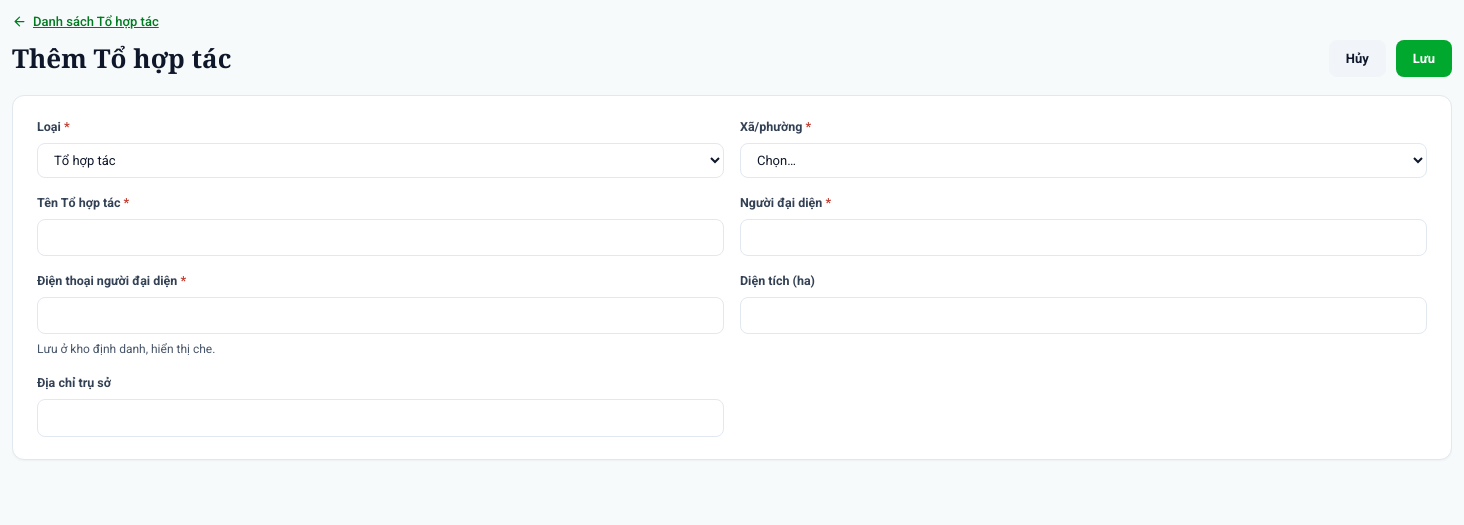
Test: TT-08: Thêm hồ sơ có ô Loại, bắt buộc theo loại › Loại Tổ hợp tác: thiếu Xã/phường, Tên, Người đại diện, Điện thoại → lỗi theo trường, không gọi API
Expected: the dropdown labelled "Loại *" shows "Tổ hợp tác", [37,143,724,178]
Expected: the field labelled "Tên Tổ hợp tác *" is shown, [37,218,724,256]
Click the button "Lưu" at (1424,58), box [1396,40,1452,77]
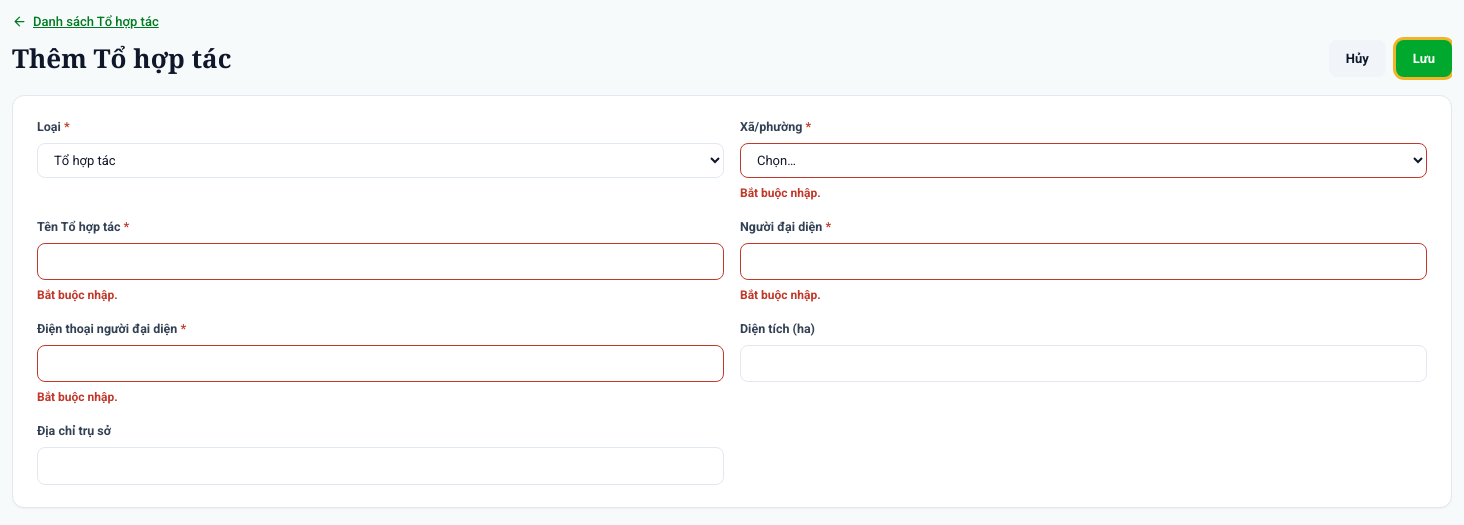
Type "THT Lúa" into the field labelled "Tên Tổ hợp tác *" at (380,261), box [37,242,724,280]
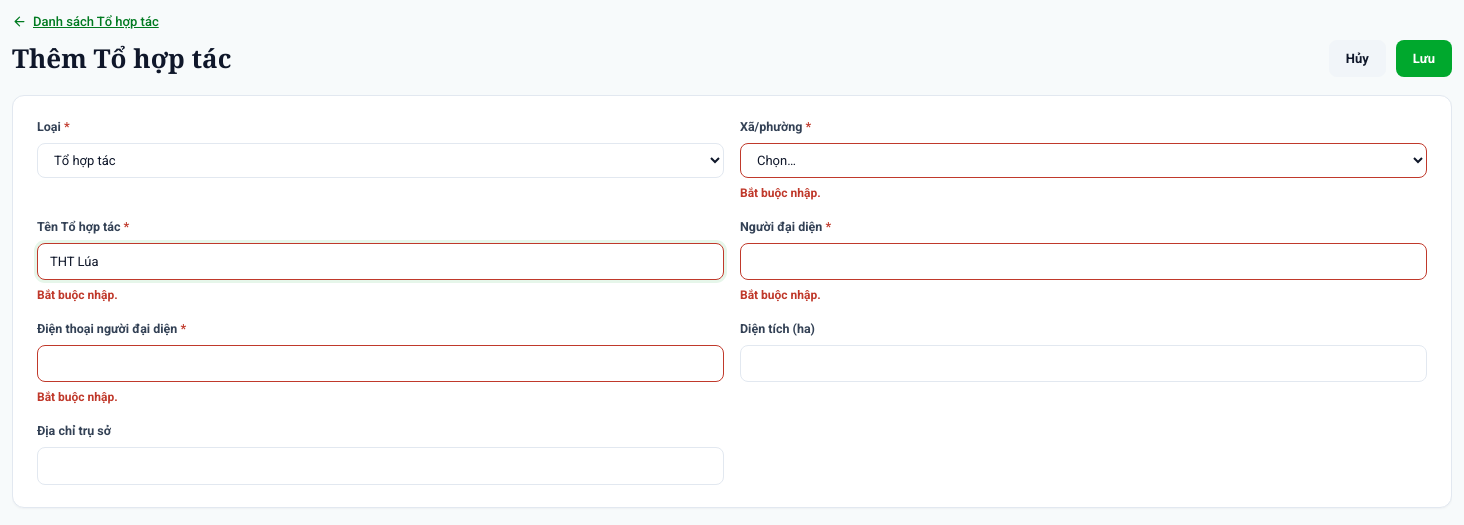
Select "Bình Đức" in the dropdown labelled "Xã/phường *" at (1084,160), box [740,143,1427,178]
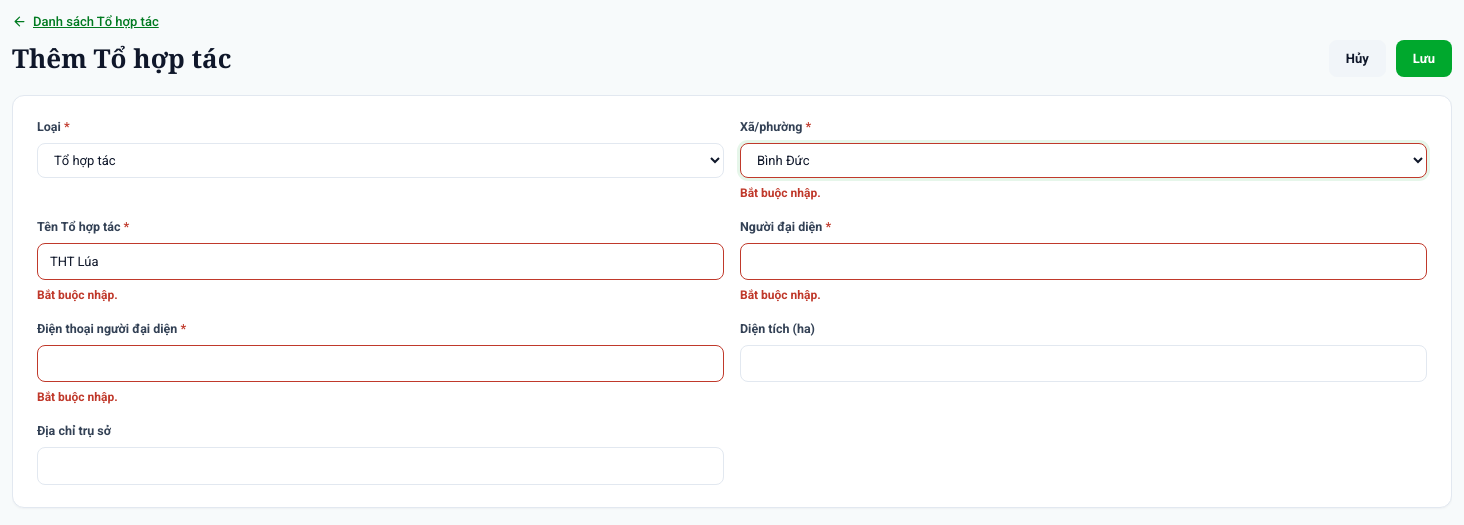
Type "Phạm Văn Dũng" into the field labelled "Người đại diện *" at (1084,261), box [740,242,1427,280]
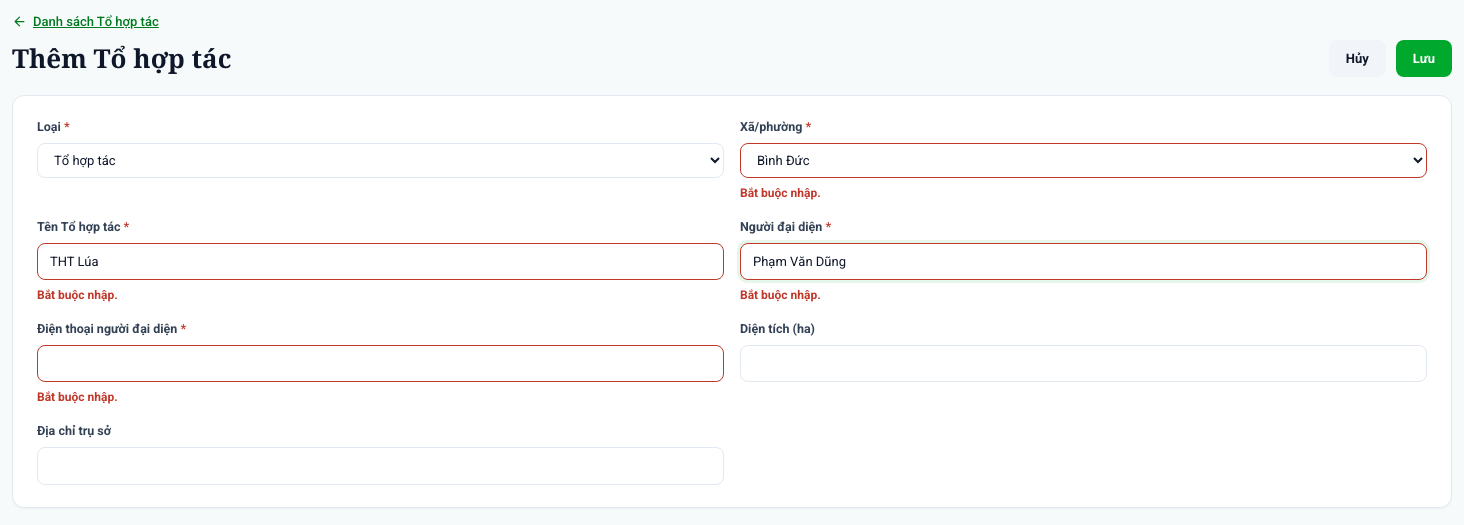
Type "12345" into the field labelled "Điện thoại người đại diện *" at (380,364), box [37,345,724,382]
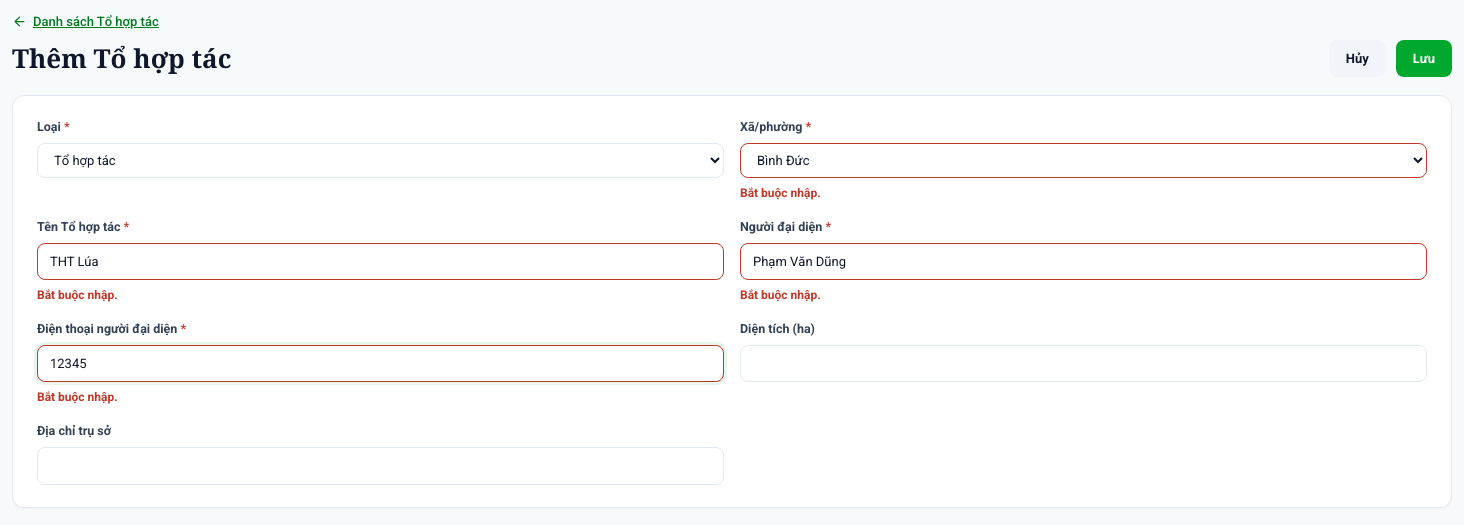
Click the button "Lưu" at (1424,58), box [1396,40,1452,77]
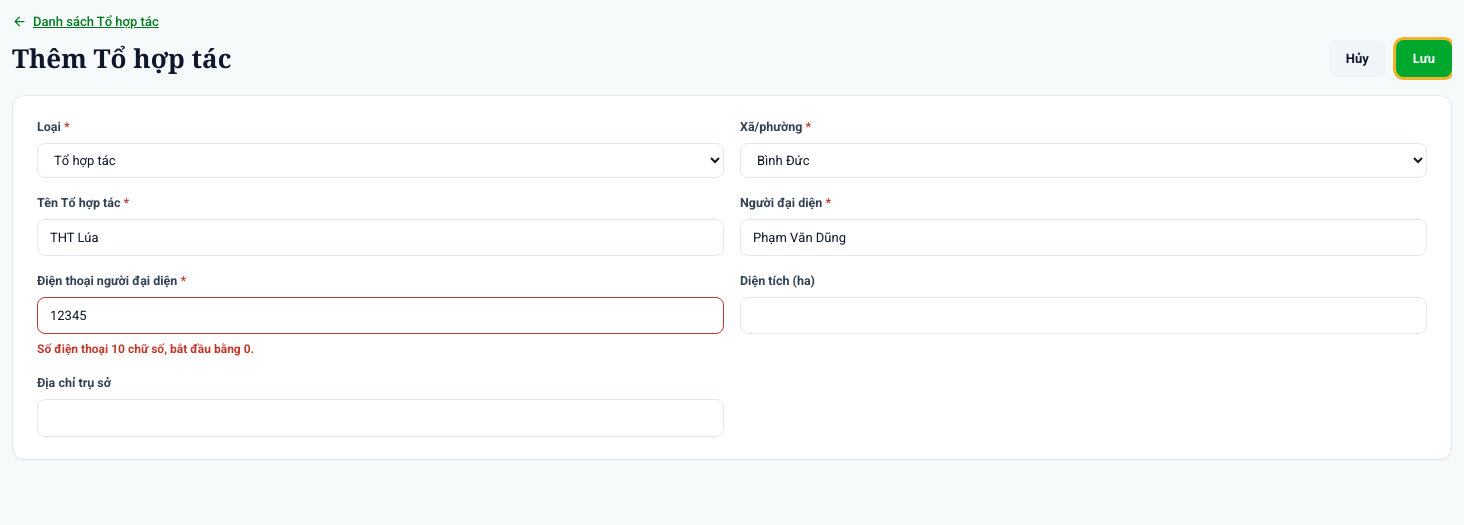
Now the text "Số điện thoại 10 chữ số, bắt đầu bằng 0." is shown, box [37,342,254,356]
